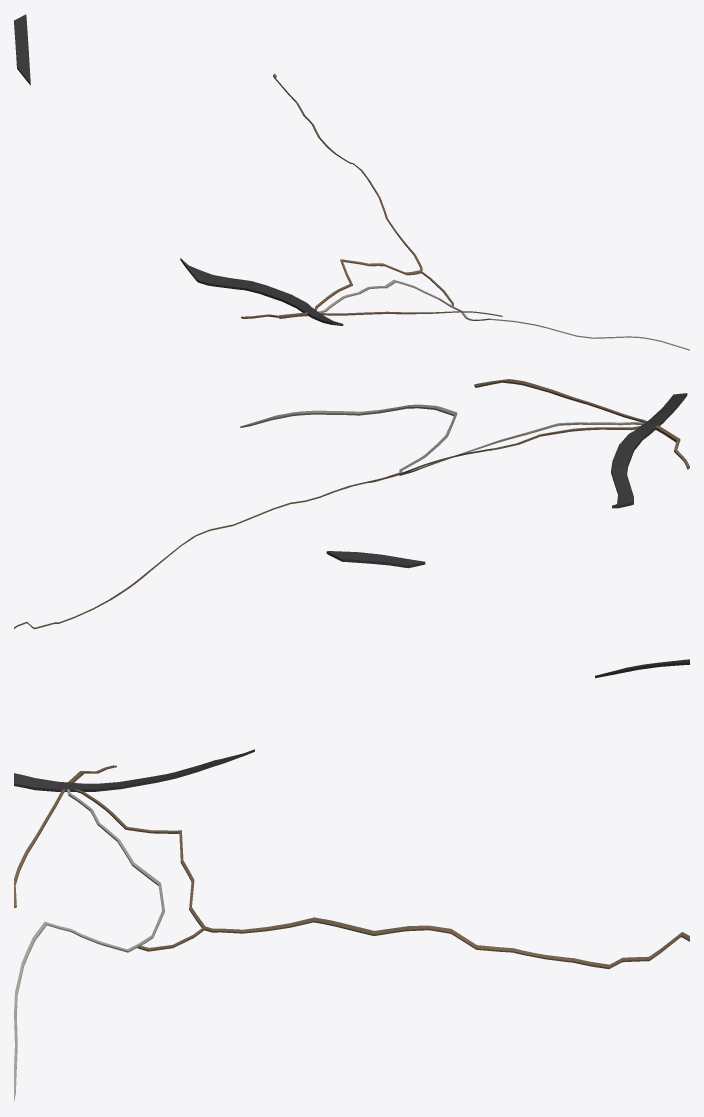
3 renders of one model, top to bottom at view 1: azimuth 30°, elevation 25°; view 2: azimuth 150°, elevation 25°; view 3: azimuth 270°, elevation 25°, orthographic. The views are drawn at different scales.
Size of the model in its own units: 229 by 113 by 292.
